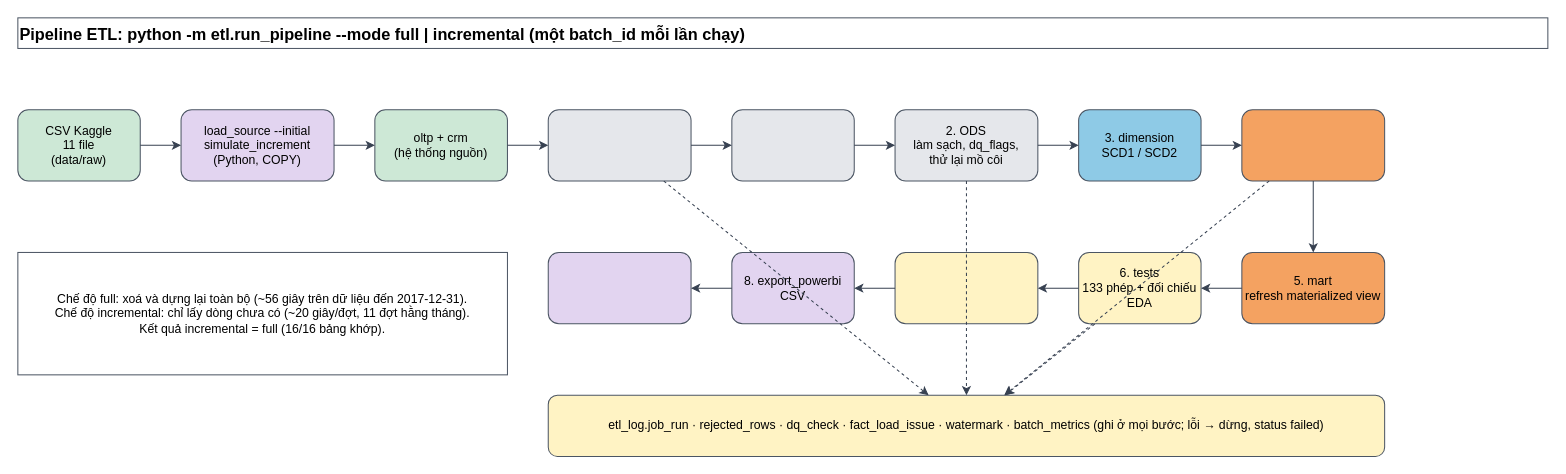
This 1566x474 diagram has some shape labels left out. Each missing label, with the box of its shape:
1. extract full / incremental (Python + SQL): (547, 109, 691, 181)
4. fact insert / upsert / tính lại: (1241, 109, 1385, 181)
7. snapshot batch_metrics: (894, 251, 1038, 324)
Power BI Import + DAX 7 dashboard: (547, 251, 691, 324)
staging stg_*: (731, 109, 854, 181)
